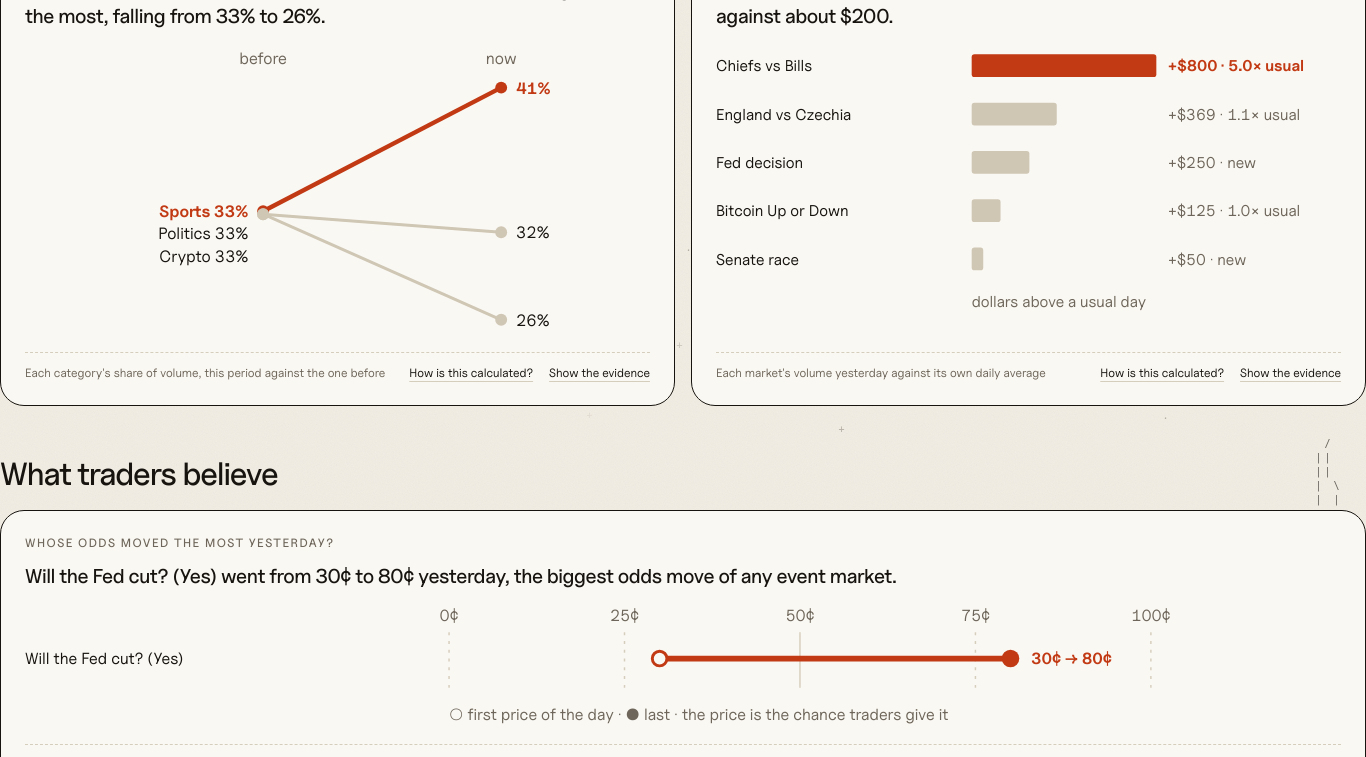
it: morning read › says when a card reads trades directly rather than one KPI
(page scrolled)
Click the button "How is this calculated?" below "dollars above a usual day" at (1162, 373), box [1100, 365, 1224, 381]
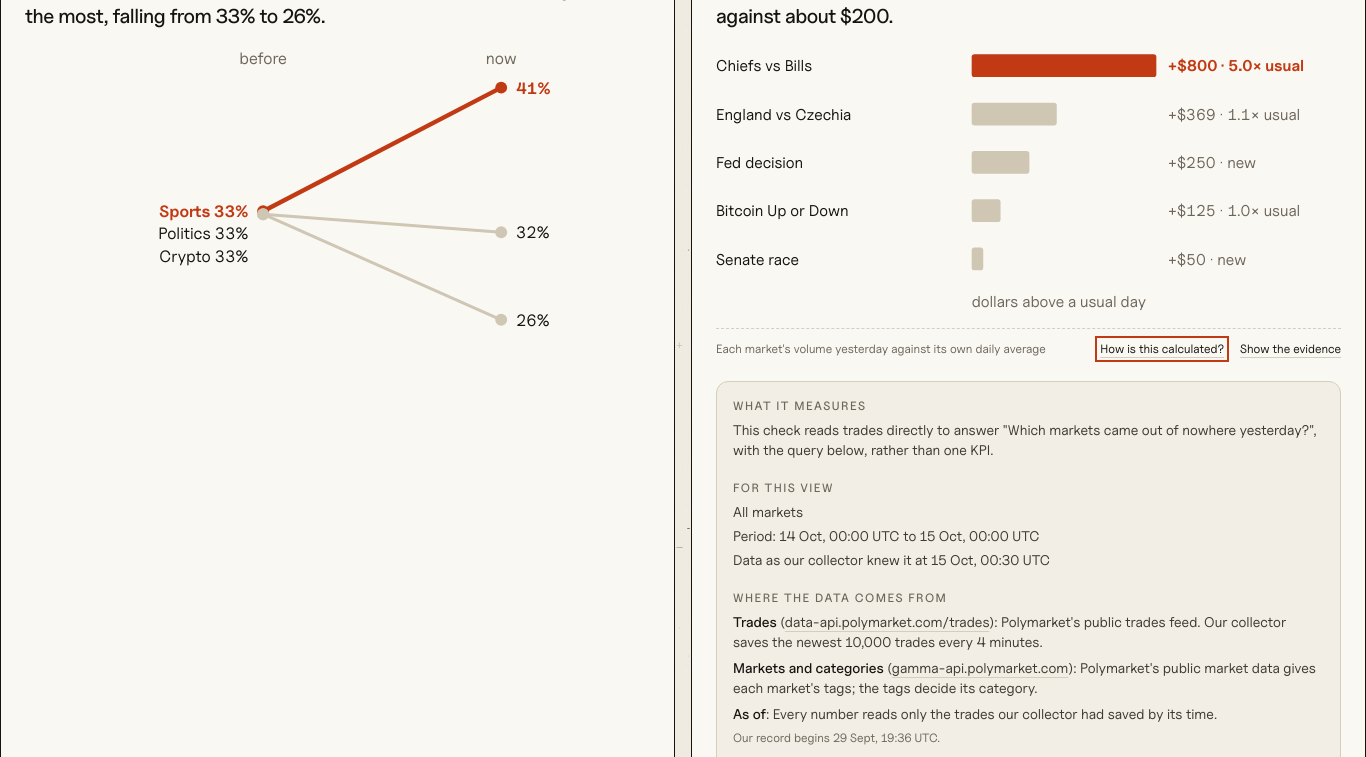
Expected: the text "reads trades directly" is shown, [733, 420, 1317, 458]
